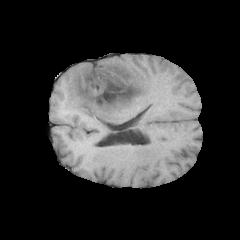glioma: (62, 58, 153, 134)
